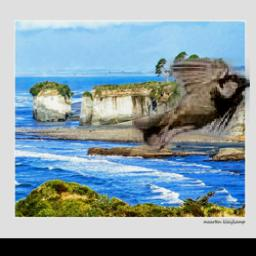Sparrow: (133, 58, 251, 153)
